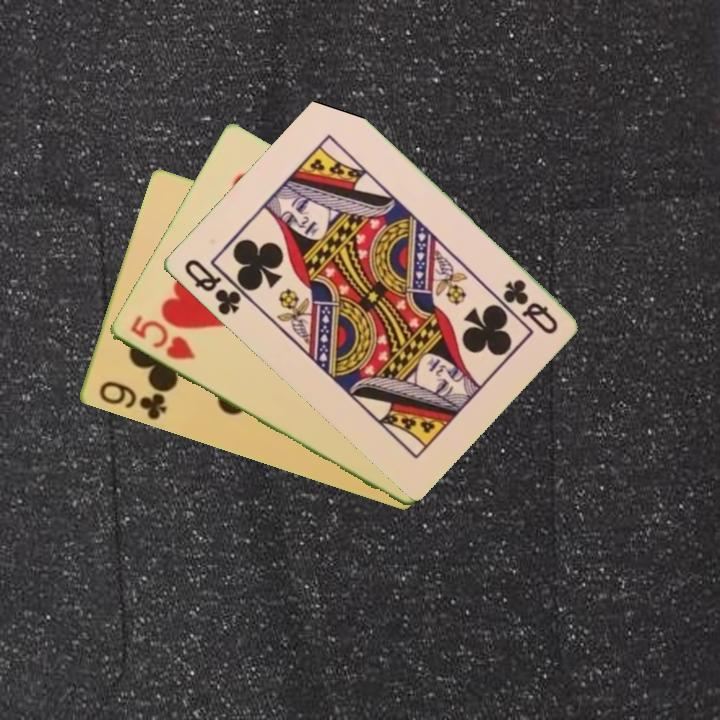5h: (126, 311, 198, 363)
9c: (94, 378, 169, 423)
Qc: (180, 255, 252, 319), (499, 275, 560, 338)
